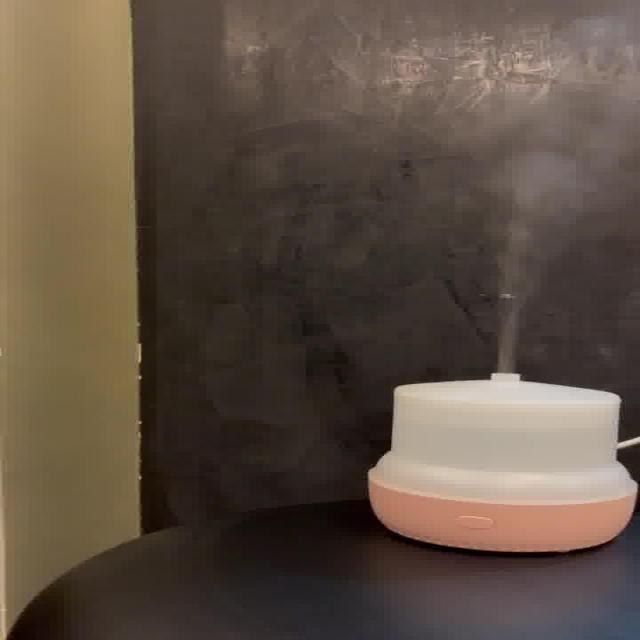fire: (486, 88, 634, 372)
